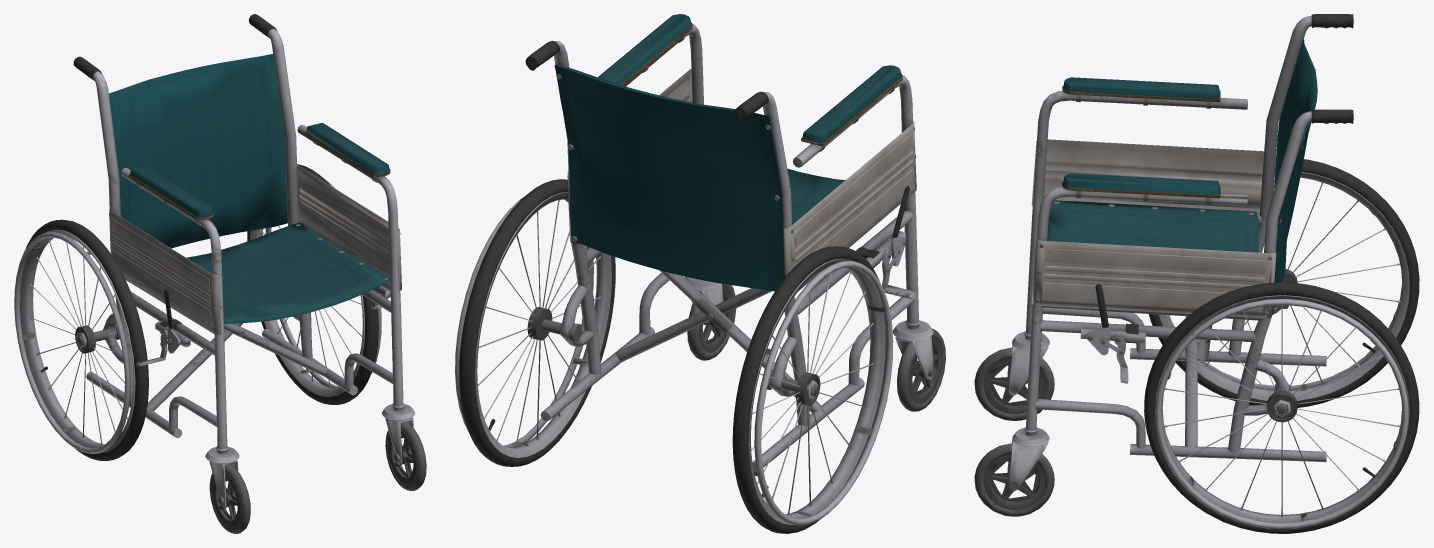
3 renders of one model, left to right at view 1: azimuth 30°, elevation 25°; view 2: azimuth 150°, elevation 25°; view 3: azimuth 270°, elevation 25°, orthographic. The views are drawn at different scales.
Parts seen in each view (by area): view 1: wheelchair_01; view 2: wheelchair_01; view 3: wheelchair_01.
Part boxes in pixels (box(x1,y1,x2,y2)): wheelchair_01: box(14, 14, 426, 533); wheelchair_01: box(455, 14, 945, 533); wheelchair_01: box(974, 14, 1419, 533).
Bounding box in the file's own units: 0.8241 × 1.1 × 1.09.
1 material, 1 textured.
